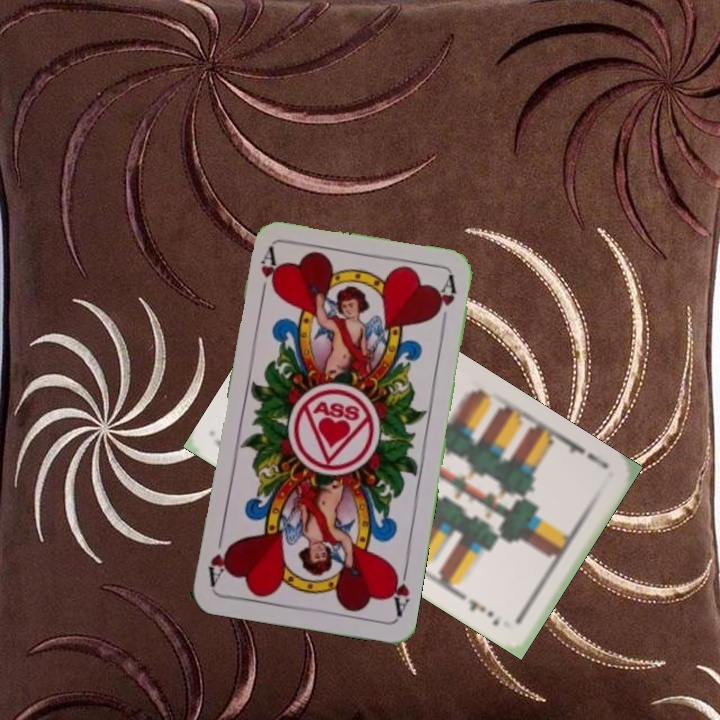E7: (559, 434, 612, 472)
HA: (385, 560, 412, 619), (256, 243, 280, 302)
